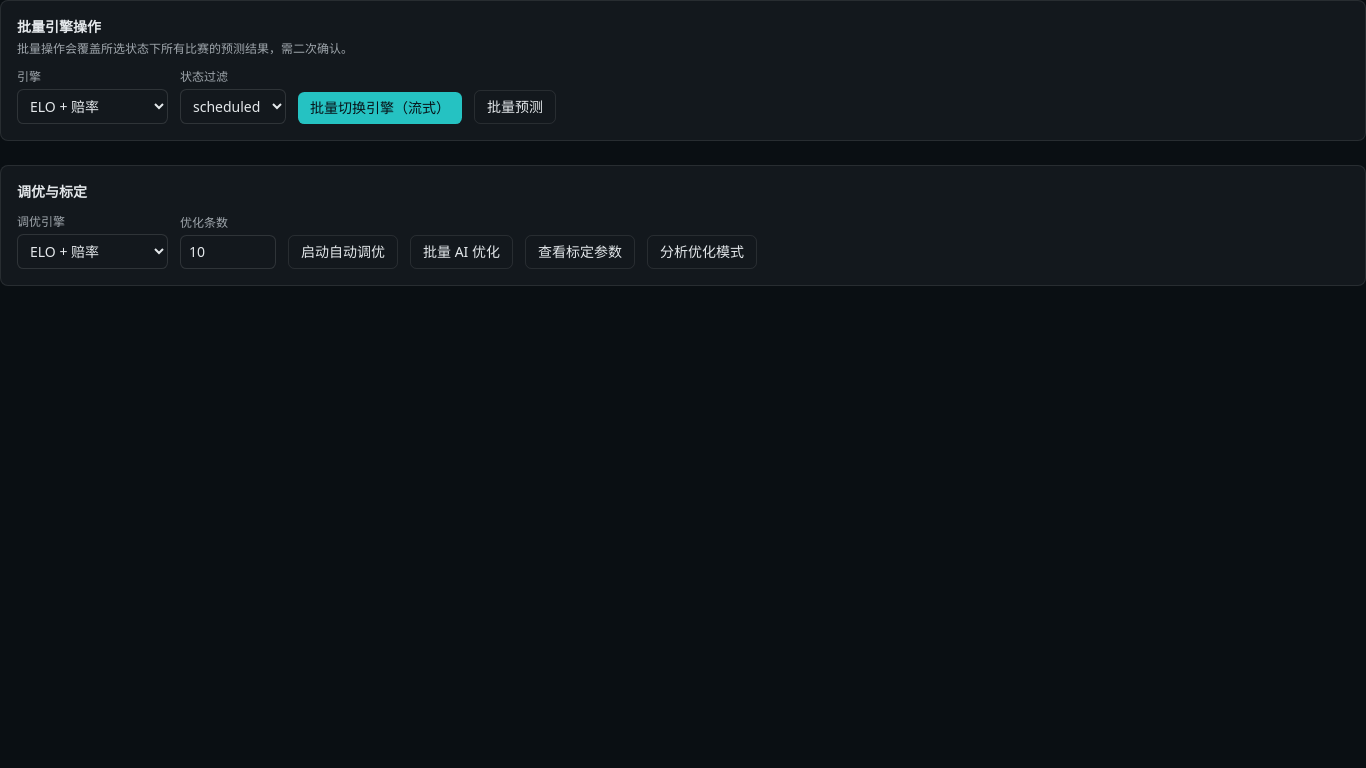
it: EngineConsole › requires a second confirmation before running a batch operation
Click the button with test id "batch-predict-button".
click(515, 107)  # box [474,90,556,124]
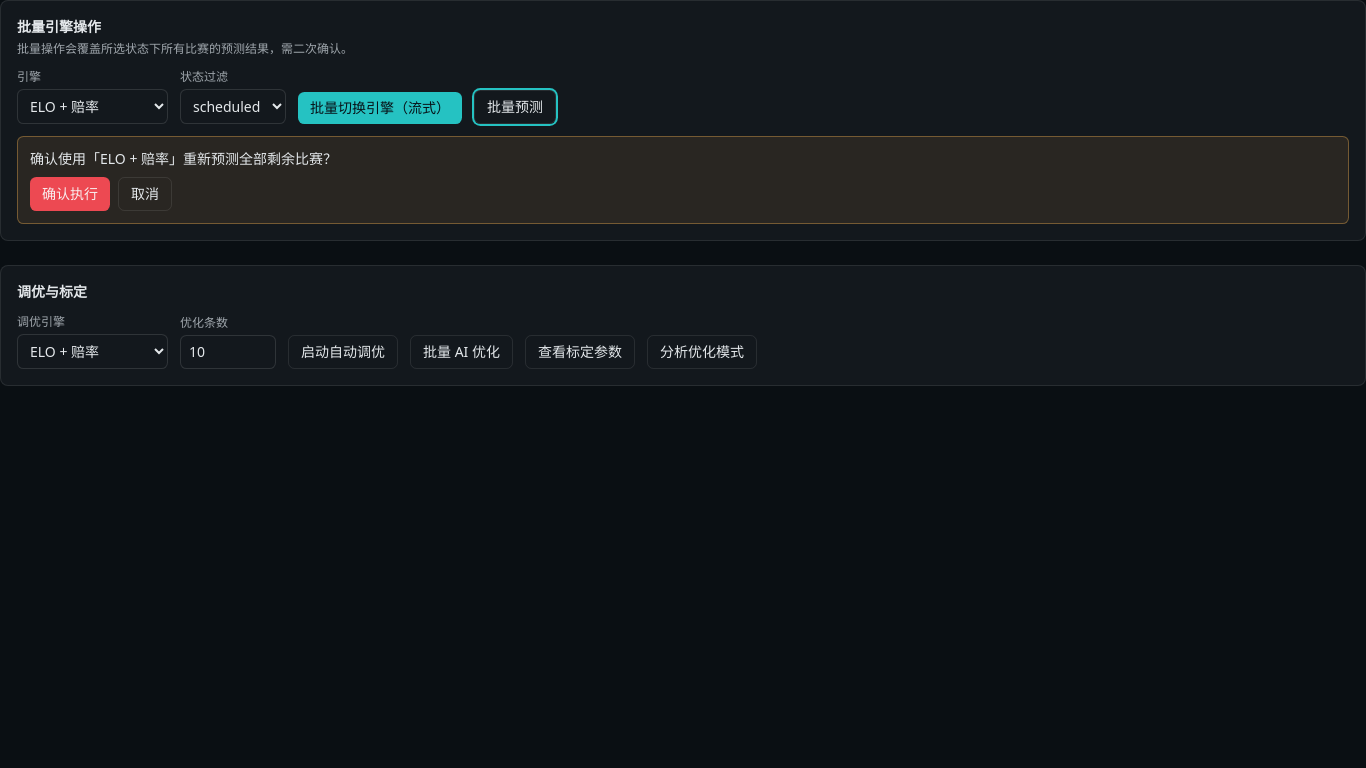
expect the dialog with test id "engine-confirm" is shown: met, box [17,136,1349,224]
Click the button with test id "engine-confirm-no".
click(145, 194)  # box [118,177,172,211]
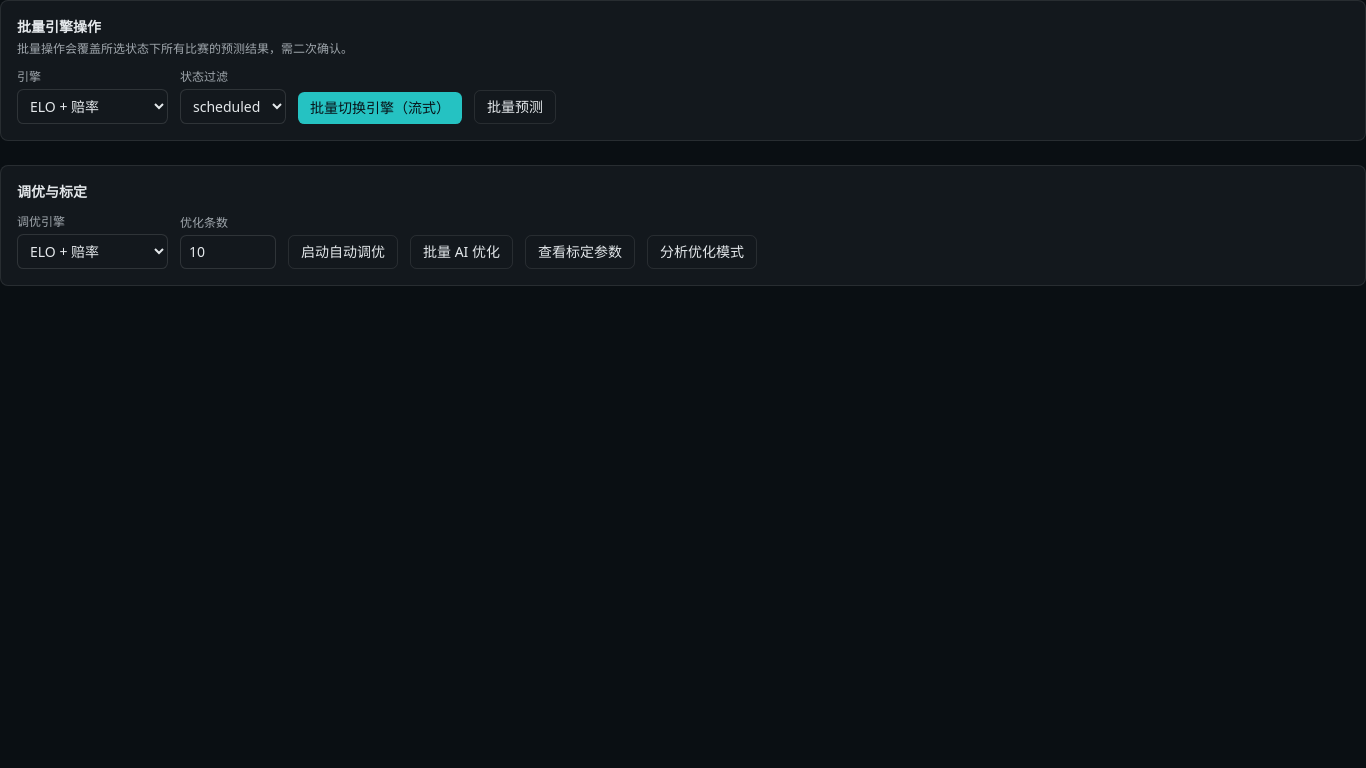
expect the dialog with test id "engine-confirm" is gone: met
